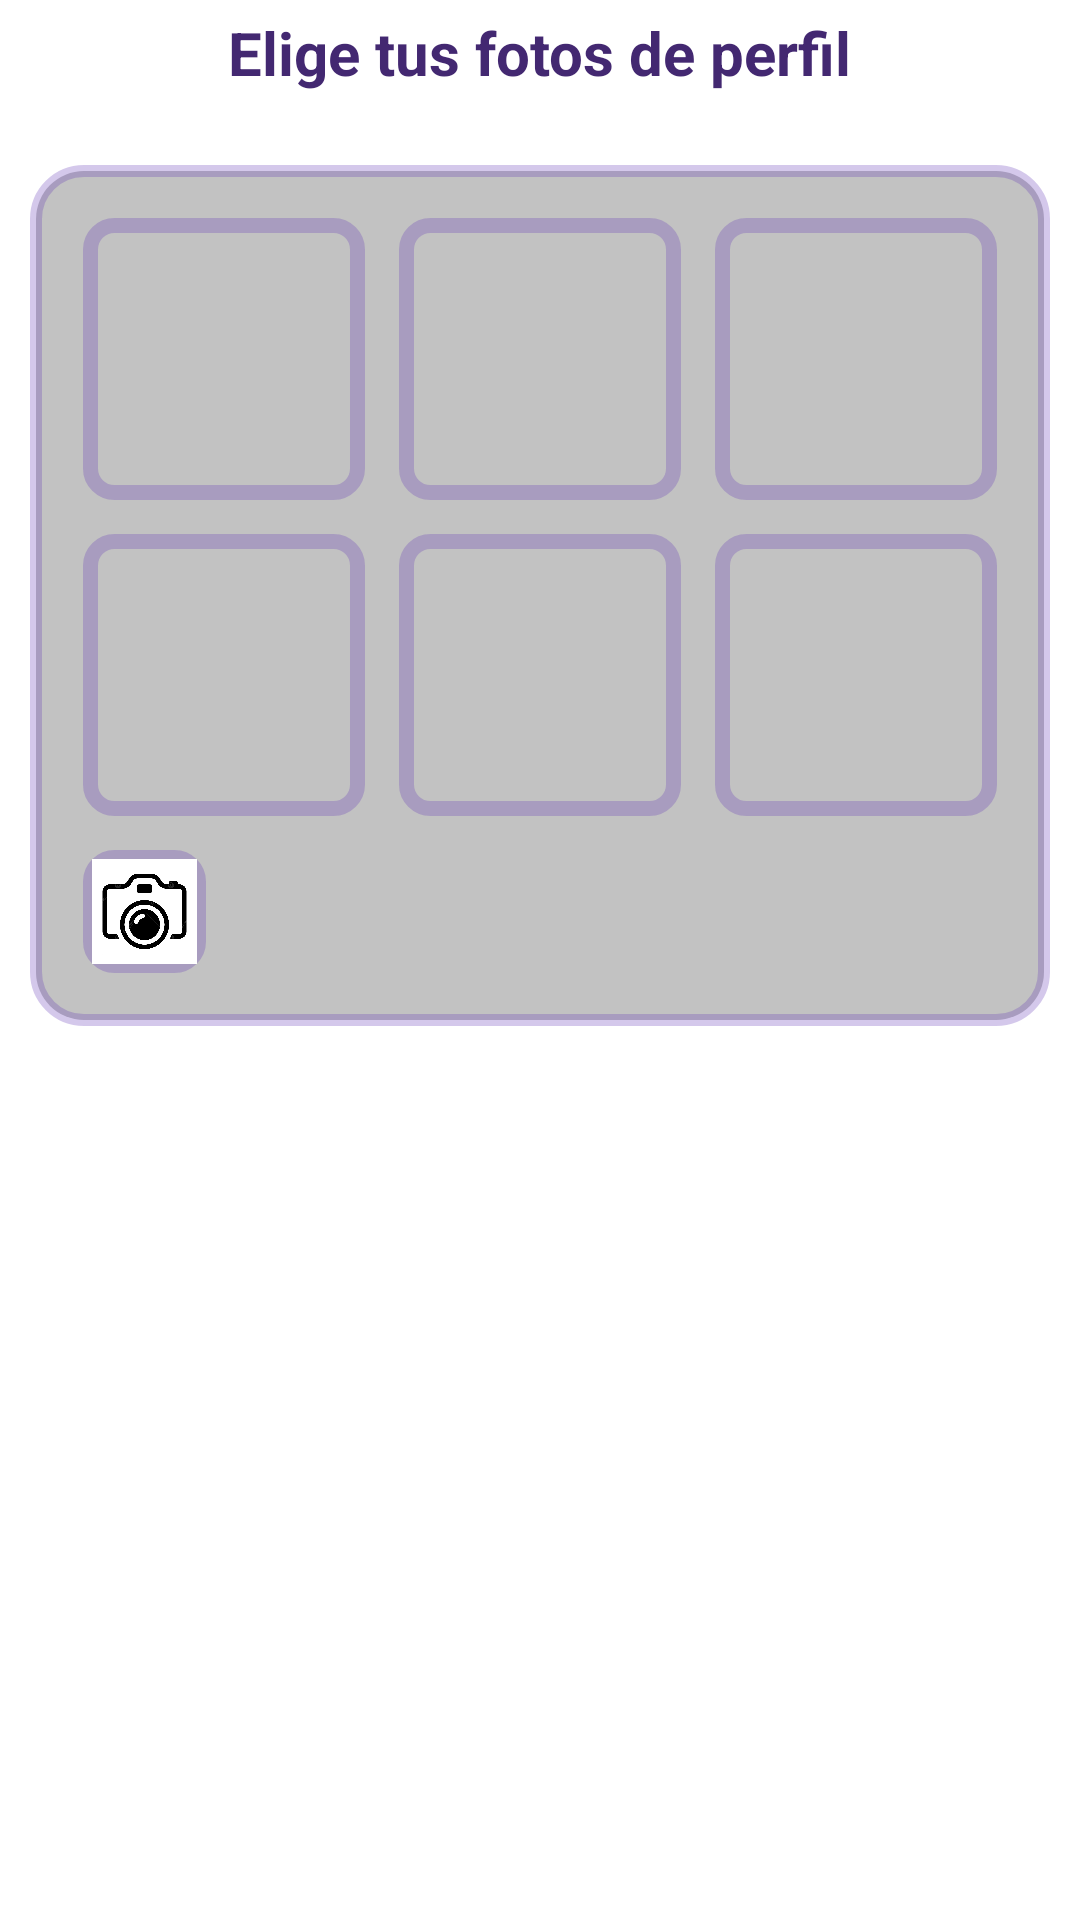

Locate icon controls on the screen. Image size 1080*1920, boxes as (x1, y1, x2, y2).
camera: (92, 859, 197, 964)
